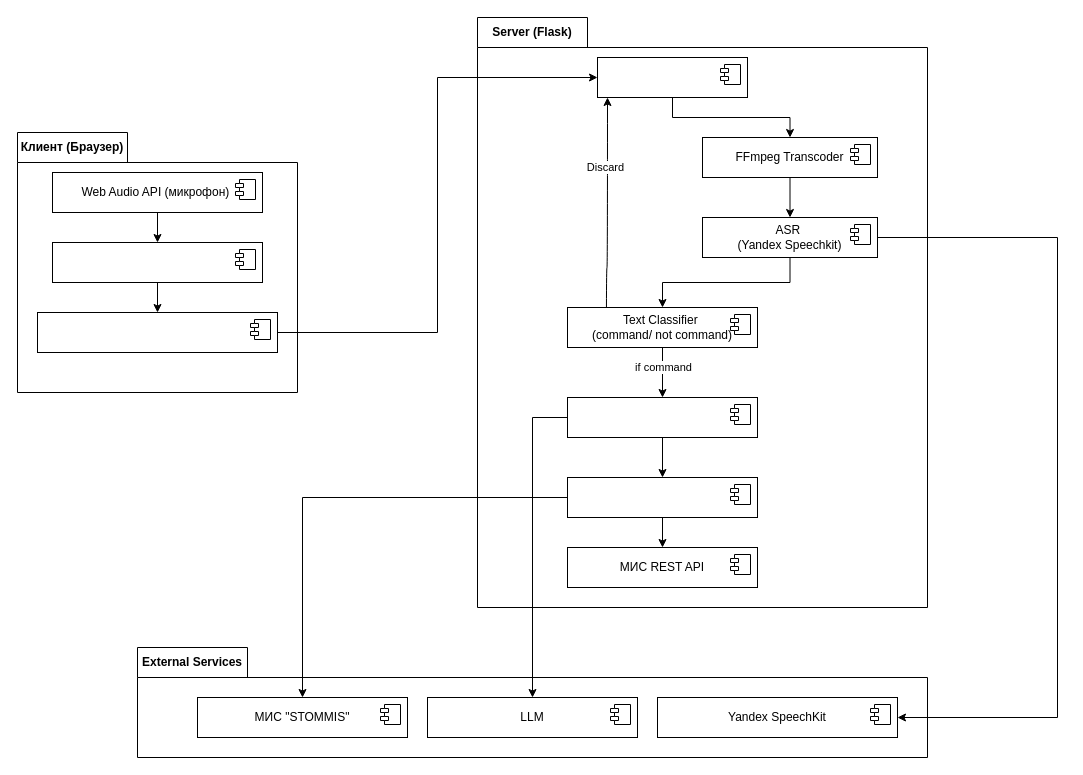
This 1083x775 diagram has some shape labels left out. Each missing label, with the centre of its shape:
"Audio Receiver" goes at pixel 672 77.
"Audio Sender ( HTTP multipart )" goes at pixel 157 332.
"LLM Interpreter" goes at pixel 662 417.
"VAD сегментация речи" goes at pixel 157 262.
"Validation Layer" goes at pixel 662 497.
